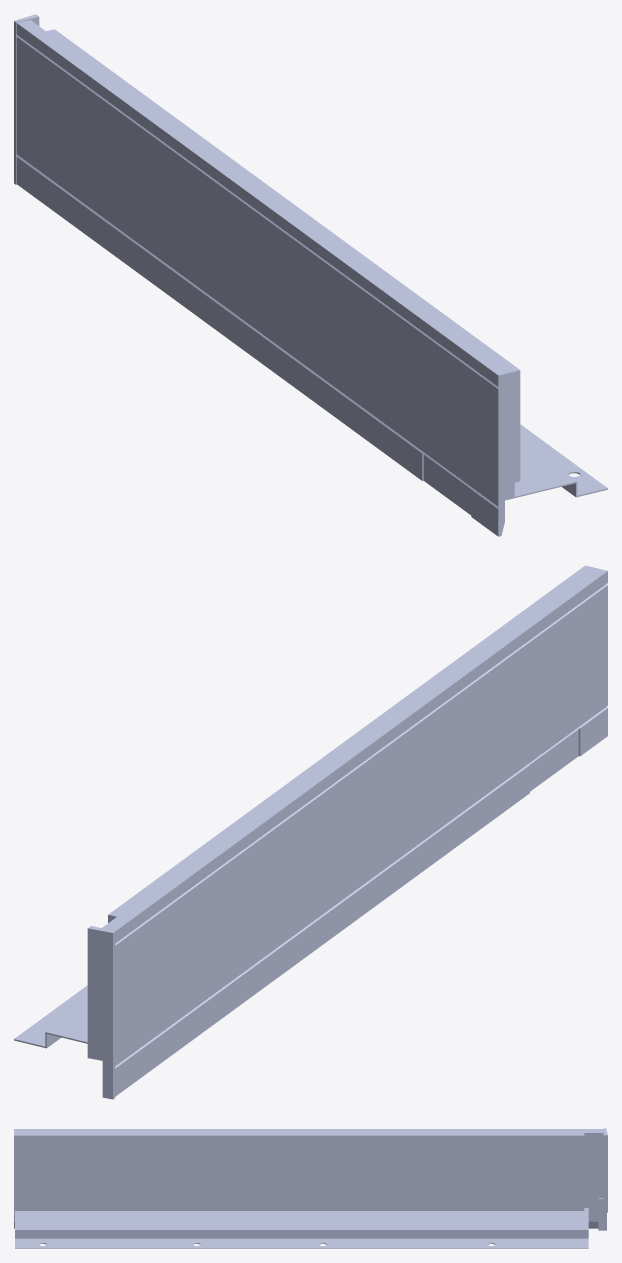
The model's file is lg-kava-M500-p.glb.
The picture shows the model from 3 angles, top to bottom: view 1: azimuth 30°, elevation 25°; view 2: azimuth 150°, elevation 25°; view 3: azimuth 270°, elevation 25°; orthographic projection. The views are drawn at different scales.
Parts seen in each view (by area): view 1: 41085031; view 2: 41085031; view 3: 41085031.
Boxes of the visible parts, left/top/right/bottom form: 41085031: left=14, top=14, right=607, bottom=536; 41085031: left=14, top=565, right=607, bottom=1099; 41085031: left=14, top=1128, right=607, bottom=1248.
Bounding box in the file's own units: 0.0653 × 0.0912 × 0.4935.
